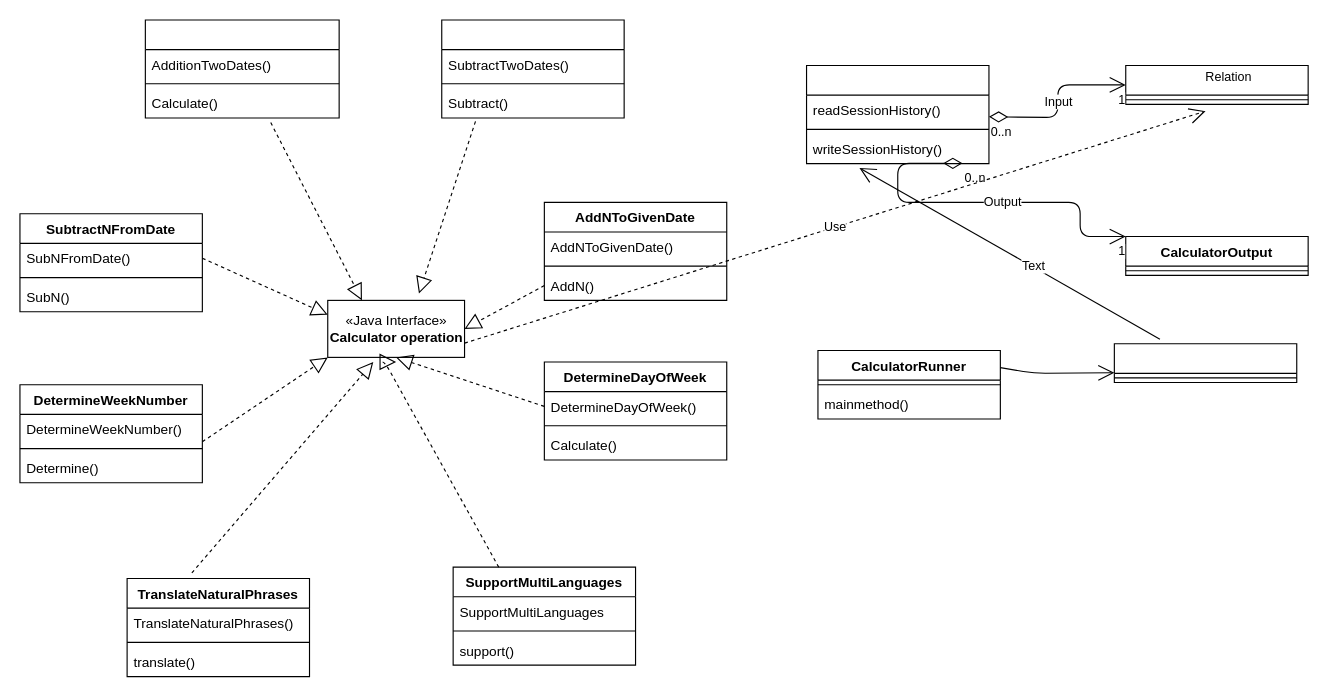
Some shapes in this 1328 by 700 pixel diagram are drawn without their labels. Each missing label, with the box of its shape:
Addition Between Two Dates: (144, 19, 339, 118)
CalculatorInput: (1125, 64, 1308, 104)
MainmenuClass: (1113, 343, 1297, 382)
Sessions: (805, 64, 989, 164)
Subtract Between Two Dates: (441, 19, 624, 118)
